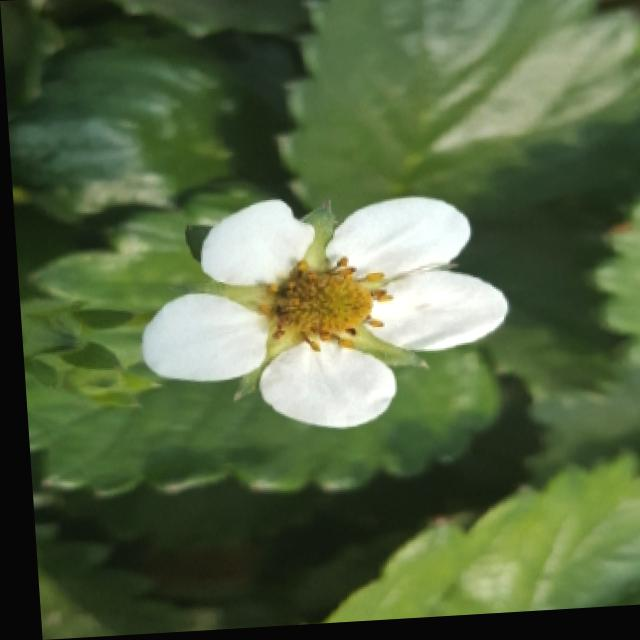Blossom Blight: (250, 256, 394, 359)
